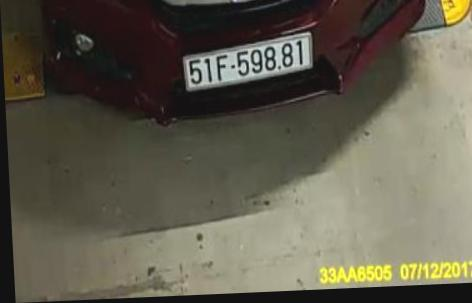License_Plate: (177, 31, 322, 91)
